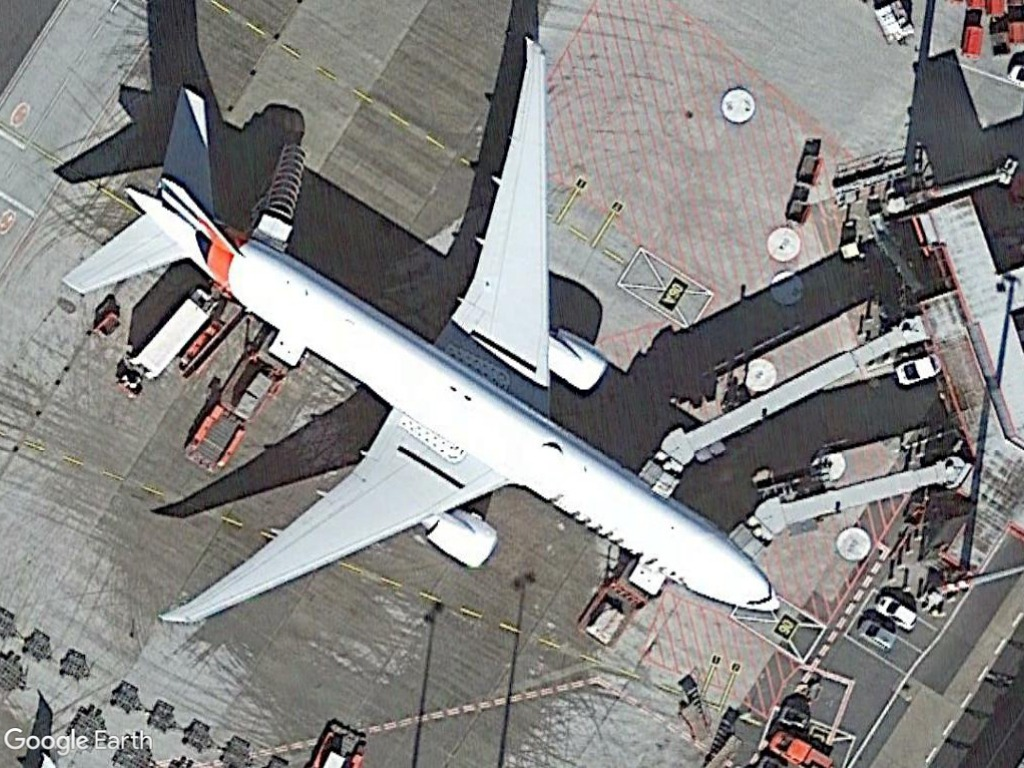airliner: (62, 19, 785, 633)
car: (872, 592, 920, 634), (854, 618, 900, 656)
van: (127, 281, 219, 382)
